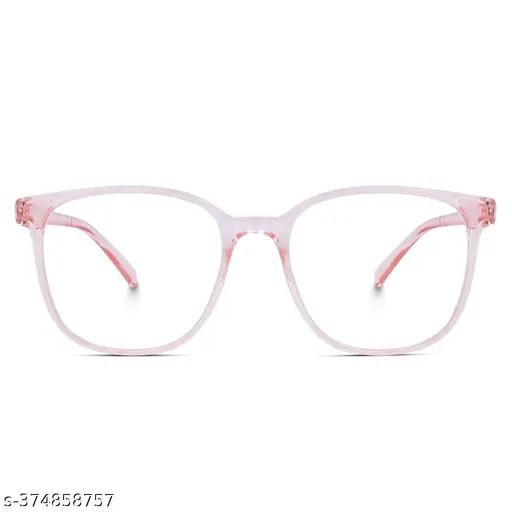spectacles: (6, 142, 512, 372)
